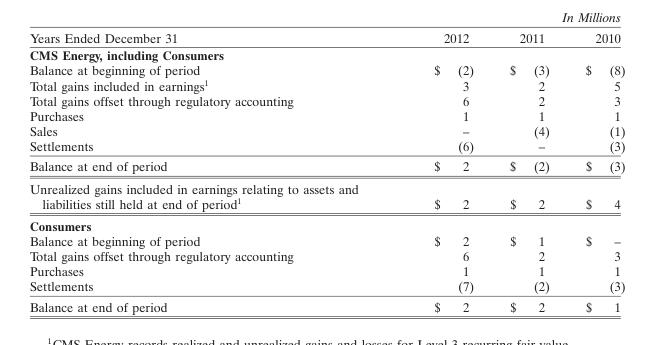table: (28, 29, 624, 313)
table column: (28, 29, 395, 313), (395, 29, 491, 313), (491, 29, 566, 313), (566, 29, 624, 313)
table column header: (28, 29, 624, 46)
table projected row header: (28, 214, 624, 232), (28, 46, 624, 62)
table row: (28, 177, 624, 214), (28, 155, 624, 177), (28, 214, 624, 232), (28, 278, 624, 296), (28, 29, 624, 46), (28, 138, 624, 155), (28, 296, 624, 313), (28, 46, 624, 62), (28, 107, 624, 123), (28, 232, 624, 248), (28, 62, 624, 77), (28, 77, 624, 92), (28, 92, 624, 107), (28, 123, 624, 138), (28, 248, 624, 263), (28, 263, 624, 278)
